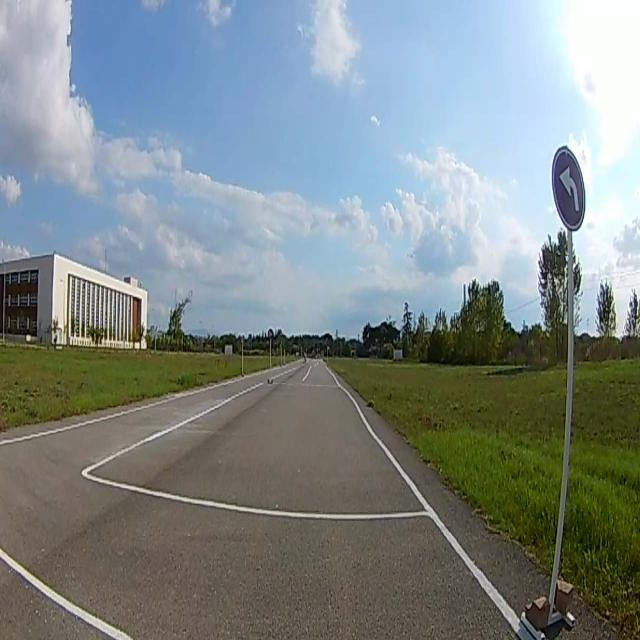sol: (550, 148, 586, 230)
